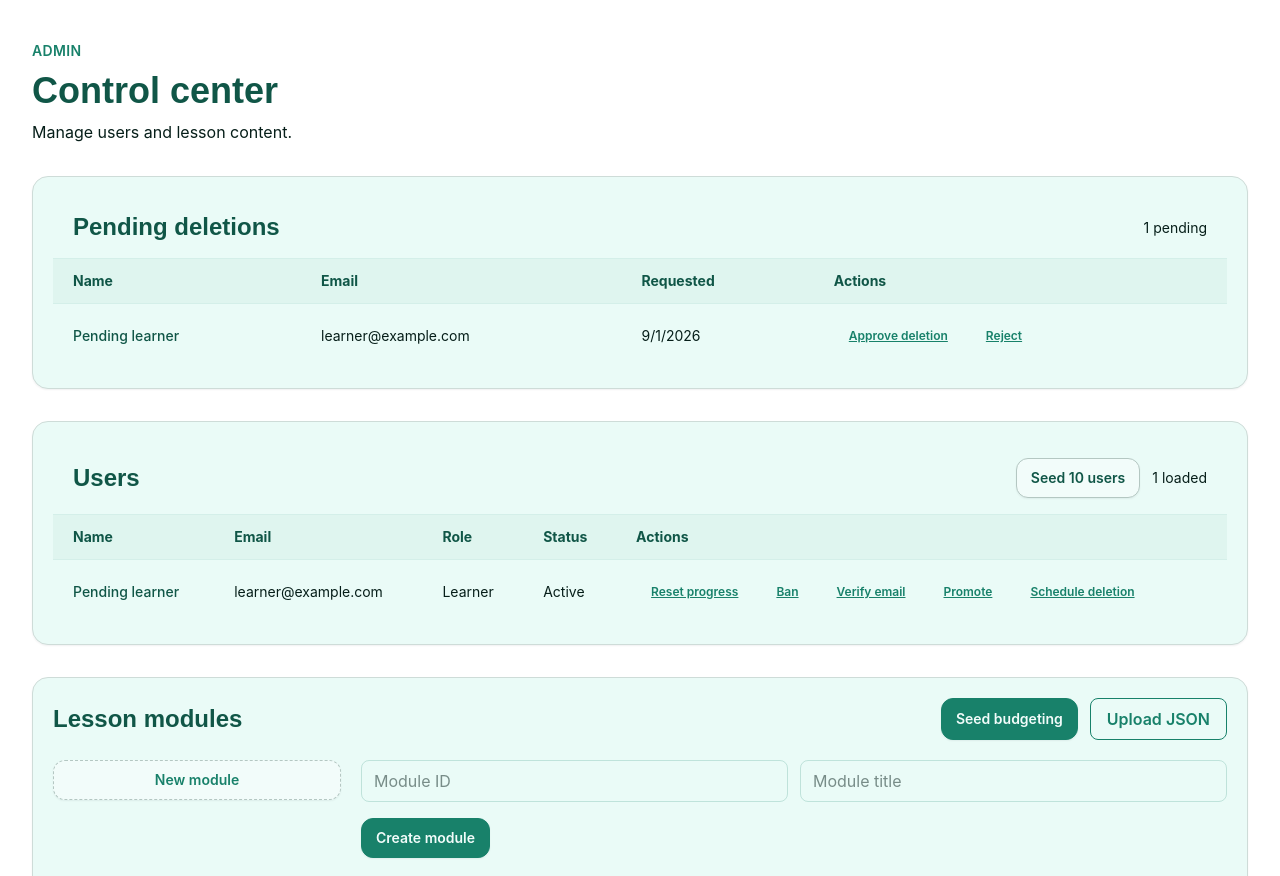
it: AdminDashboardPage › moves an approved request into the scheduled users list without refetching dashboard data
Step 1. Click the button "Approve deletion" → (898, 336), box [834,316,963,356]
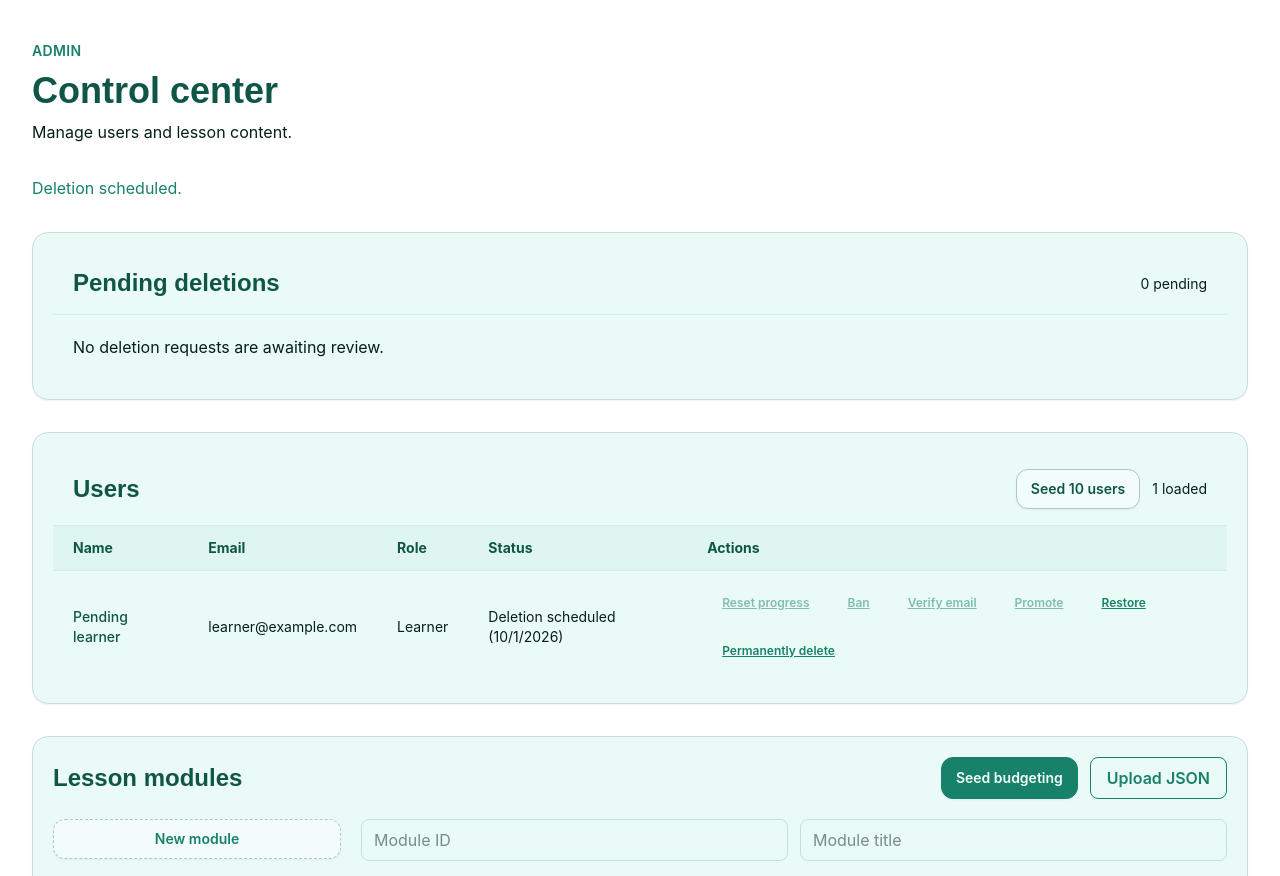
Expected: the message reads "Deletion scheduled.", [32,178,182,198]
Expected: the button "Restore" is shown, [1086,583,1161,623]
Expected: the button "Permanently delete" is shown, [707,631,850,671]
